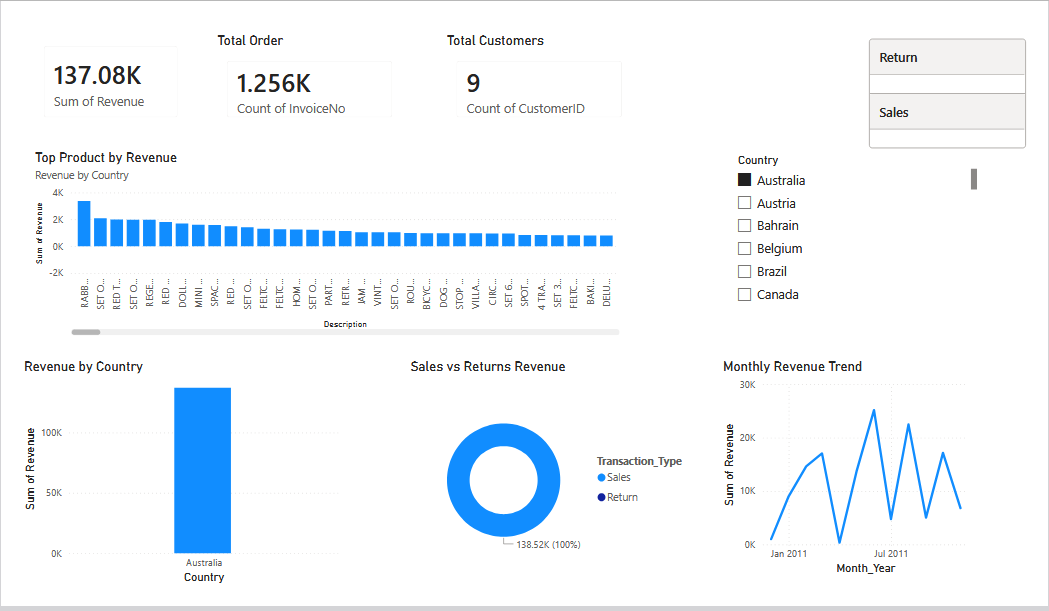

This screenshot's page, from the dashboard's own definition file:
{"tool":"powerbi","page":{"name":"Page 1","canvas":[1280,720],"ordinal":0},"visuals":[{"type":"clusteredColumnChart","title":"Top Product by Revenue","fields":{"Category":["online_retail.Description"],"Y":["Sum(online_retail.Revenue)"]},"box":[14.3,180,315.7,225.7],"z":0},{"type":"qnaVisual","box":[480,180,357.1,225.7],"z":1000},{"type":"clusteredColumnChart","title":"Revenue by Country","fields":{"Category":["online_retail.Country"],"Y":["Sum(online_retail.Revenue)"]},"box":[0,430,408.6,290],"z":2000},{"type":"lineChart","title":"Monthly Revenue Trend","fields":{"Y":["Sum(online_retail.Revenue)"],"Category":["online_retail.Month_Year"]},"box":[885.7,430,332.9,278.6],"z":3000},{"type":"slicer","fields":{"Values":["online_retail.Country"]},"box":[897.1,165.6,321.1,203],"z":4000},{"type":"donutChart","title":"Sales vs Returns Revenue","fields":{"Category":["online_retail.Transaction_Type"],"Y":["Sum(online_retail.Revenue)"]},"box":[490,430,357.1,290],"z":5000},{"type":"cardVisual","fields":{"Data":["Sum(online_retail.Revenue)"]},"box":[13,17.3,204.5,125.3],"z":6000},{"type":"cardVisual","fields":{"Data":["online_retail.Total Revenue"],"Rows":["online_retail.Transaction_Type"]},"box":[1071.4,0,208.8,190.1],"z":7000},{"type":"cardVisual","title":"Total Order","fields":{"Data":["CountNonNull(online_retail.InvoiceNo)"]},"box":[244.8,17.3,244.8,125.3],"z":8000},{"type":"cardVisual","title":"Total Customers","fields":{"Data":["Count(online_retail.CustomerID)"]},"box":[535.7,17.3,244.8,125.3],"z":9000}]}

Visuals, with their boxes on the page's 1280x720 design canvas (x1, y1, x2, y2). These are canvas units, not pixel positions in the 1049x611 screenshot, which may show the page scaled, cropped or inside an application window:
"Top Product by Revenue" clusteredColumnChart: Rect(14, 180, 330, 406)
qnaVisual: Rect(480, 180, 837, 406)
"Revenue by Country" clusteredColumnChart: Rect(0, 430, 409, 720)
"Monthly Revenue Trend" lineChart: Rect(886, 430, 1219, 709)
slicer - online_retail.Country: Rect(897, 166, 1218, 369)
"Sales vs Returns Revenue" donutChart: Rect(490, 430, 847, 720)
cardVisual - Sum(online_retail.Revenue): Rect(13, 17, 218, 143)
cardVisual - online_retail.Total Revenue x online_retail.Transaction_Type: Rect(1071, 0, 1280, 190)
"Total Order" cardVisual: Rect(245, 17, 490, 143)
"Total Customers" cardVisual: Rect(536, 17, 780, 143)
